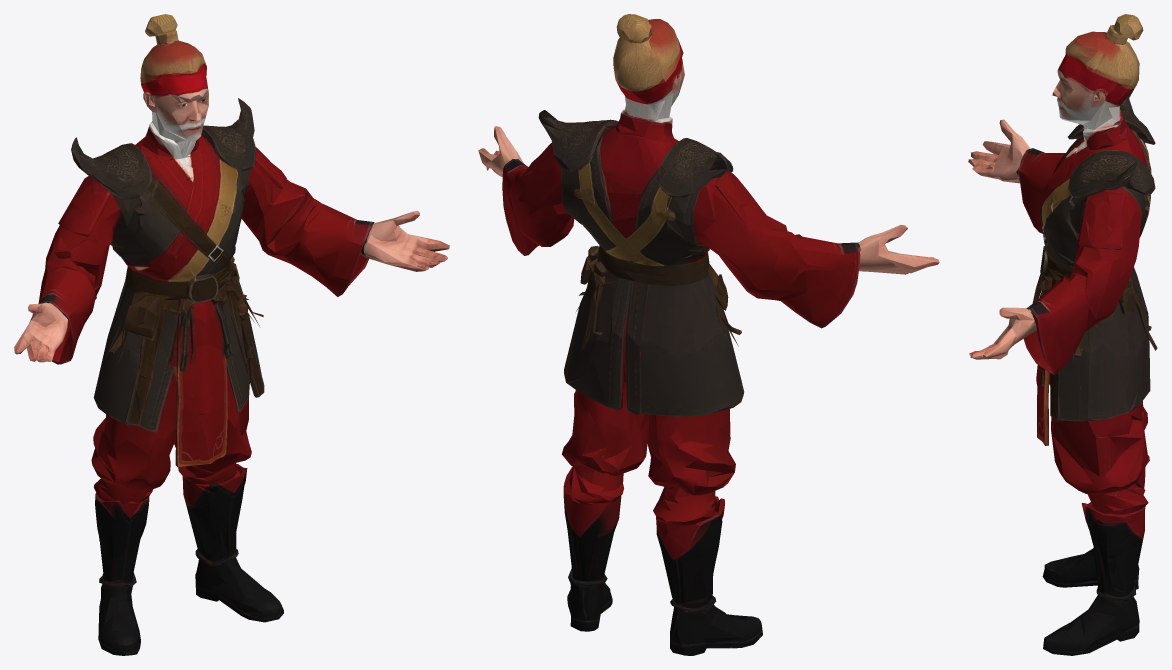
Rendered from char_CV_songdao.glb.
The picture shows the model from 3 angles, left to right: view 1: azimuth 30°, elevation 25°; view 2: azimuth 150°, elevation 25°; view 3: azimuth 270°, elevation 25°; orthographic projection. The views are drawn at different scales.
Bounding box in the file's own units: 1.46 × 1.9 × 0.5449.
1 material, 1 textured.
